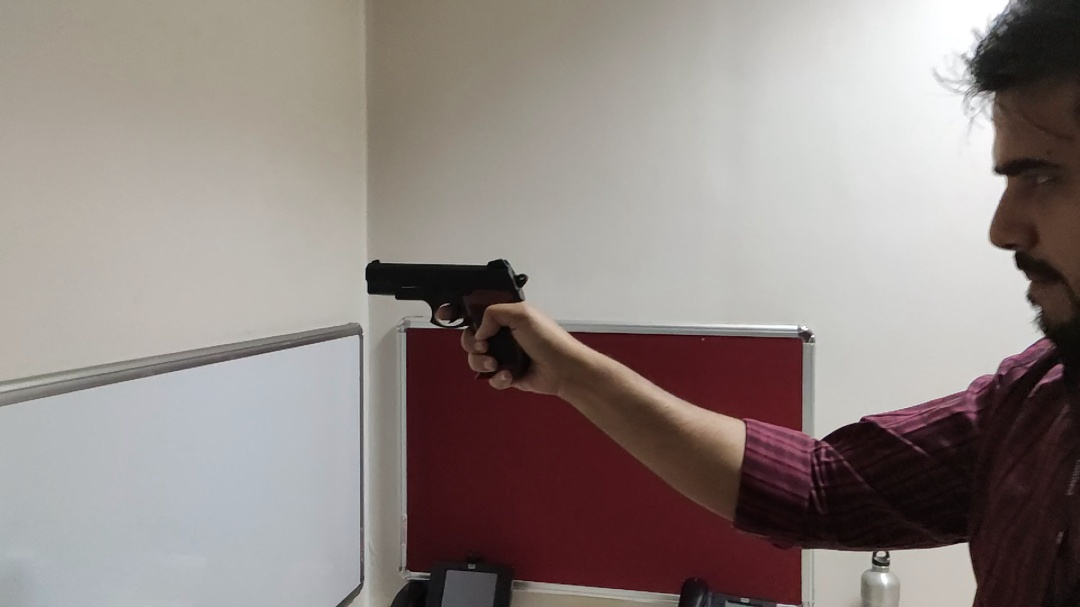gun: (363, 261, 534, 382)
